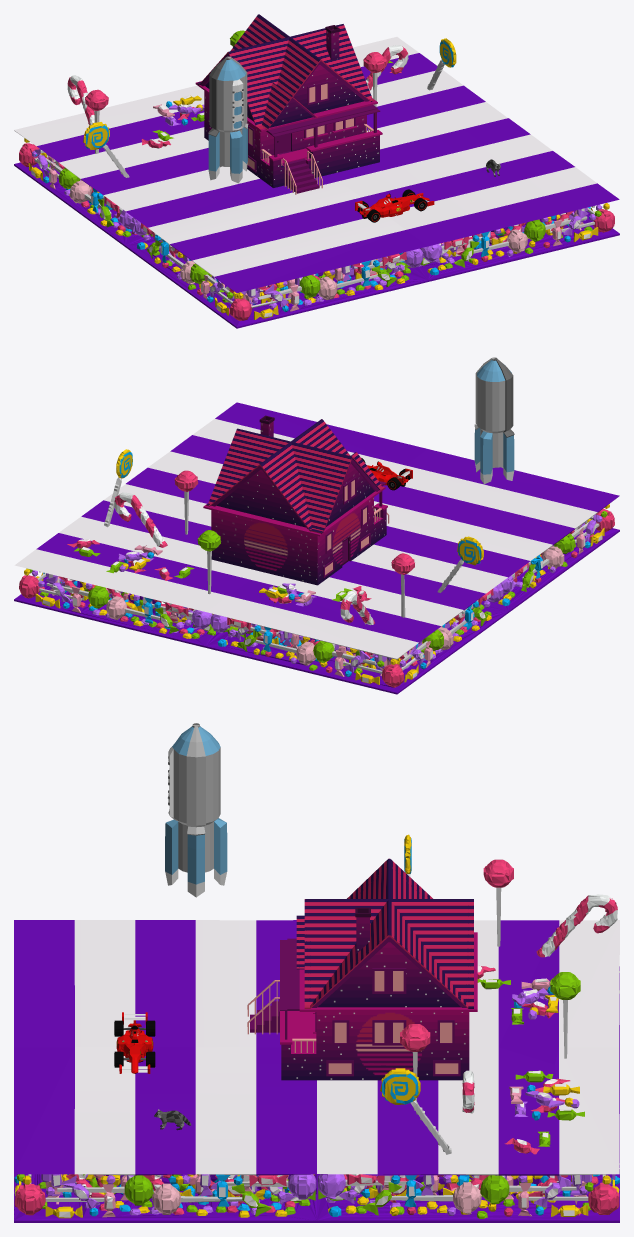
The picture shows the model from 3 angles, top to bottom: view 1: azimuth 30°, elevation 25°; view 2: azimuth 150°, elevation 25°; view 3: azimuth 270°, elevation 25°; orthographic projection. The views are drawn at different scales.
Visible parts, largest first — view 1: TERRAIN_CANDY, Cube.156, OBJRANDOM_ROCKETSHIP, VEHICLES_FORMULA_1; view 2: TERRAIN_CANDY, Cube.156, OBJRANDOM_ROCKETSHIP, VEHICLES_FORMULA_1; view 3: TERRAIN_CANDY, Cube.156, OBJRANDOM_ROCKETSHIP, VEHICLES_FORMULA_1.
Boxes of the visible parts, x1=… form: TERRAIN_CANDY: x1=14, y1=30, x2=619, y2=328; Cube.156: x1=195, y1=14, x2=382, y2=194; OBJRANDOM_ROCKETSHIP: x1=208, y1=56, x2=248, y2=183; VEHICLES_FORMULA_1: x1=355, y1=189, x2=434, y2=222; TERRAIN_CANDY: x1=14, y1=402, x2=619, y2=694; Cube.156: x1=203, y1=415, x2=389, y2=585; OBJRANDOM_ROCKETSHIP: x1=474, y1=357, x2=514, y2=484; VEHICLES_FORMULA_1: x1=361, y1=458, x2=412, y2=490; TERRAIN_CANDY: x1=14, y1=834, x2=619, y2=1222; Cube.156: x1=247, y1=858, x2=477, y2=1080; OBJRANDOM_ROCKETSHIP: x1=165, y1=723, x2=227, y2=897; VEHICLES_FORMULA_1: x1=114, y1=1012, x2=155, y2=1073.
Size of the model in its own units: 4059 by 2153 by 4000.
29 materials, 4 textured.
